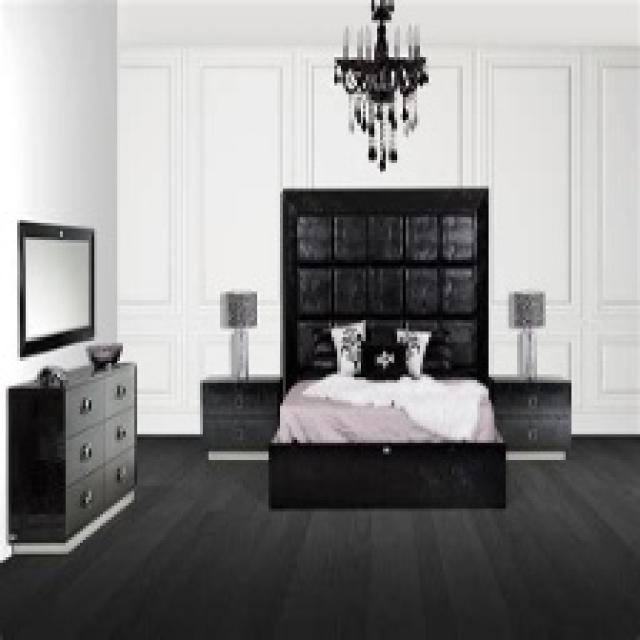Bed: (266, 186, 506, 508)
